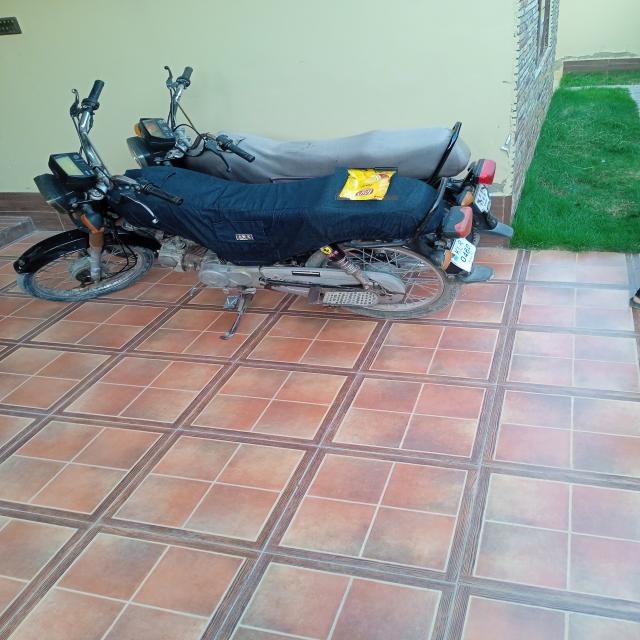Plastic: (334, 166, 398, 200)
